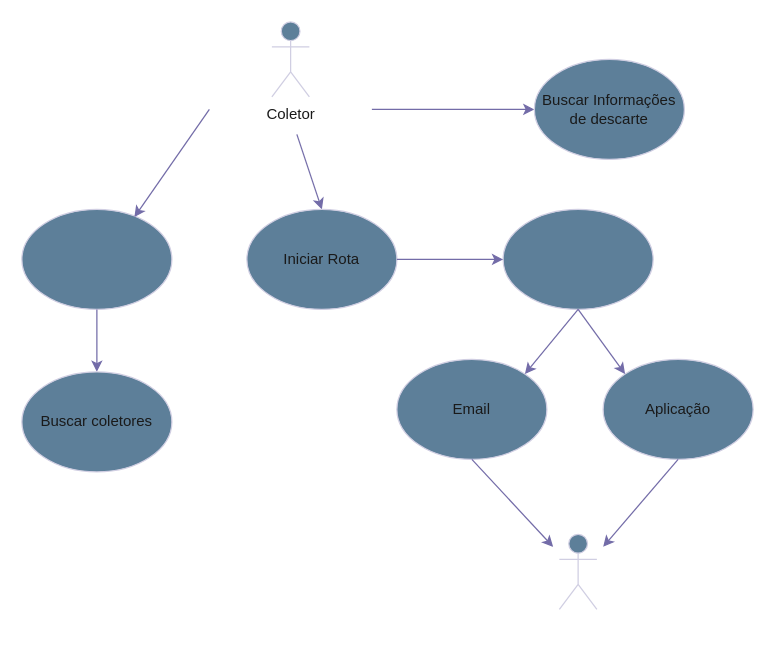
This 775x658 diagram has some shape labels left out. Here are the shapes that lost their labels. From the top down, the box of each, then its label:
(21, 208, 172, 309): Visualizar mapa
(502, 208, 653, 309): Notificar
(558, 533, 597, 609): Usuario com CEP na rota
